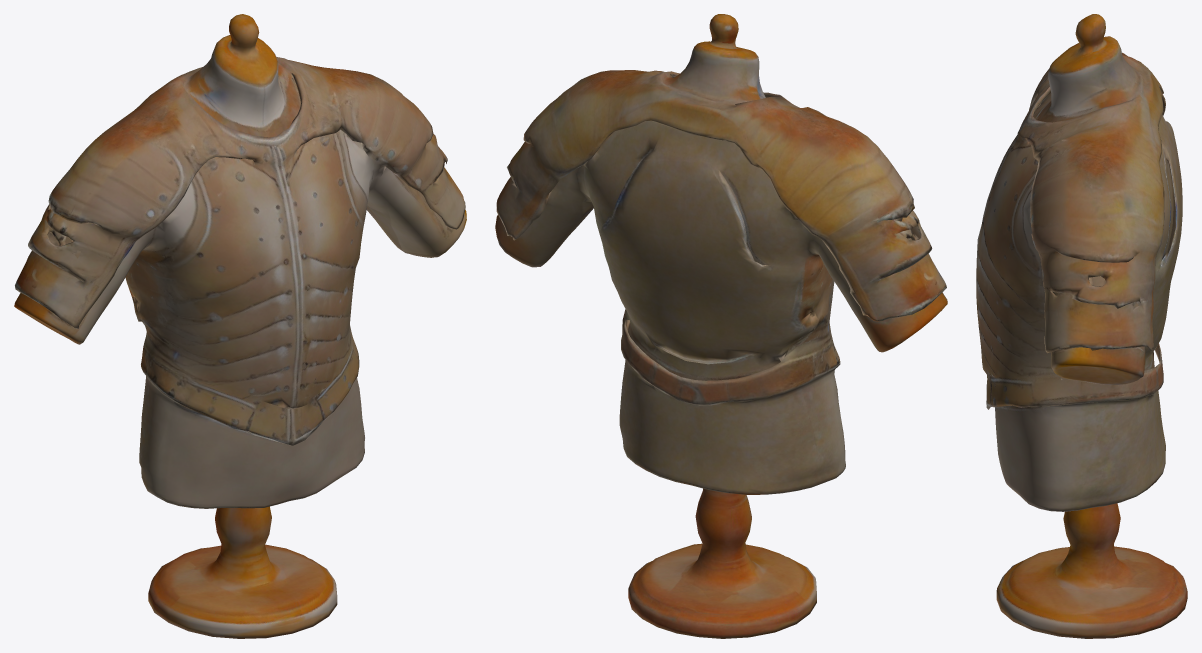
The model's file is Hard Leather Body.glb.
The picture shows the model from 3 angles, left to right: view 1: azimuth 30°, elevation 25°; view 2: azimuth 150°, elevation 25°; view 3: azimuth 270°, elevation 25°; orthographic projection.
Visible parts, largest first — view 1: file1; view 2: file1; view 3: file1.
Part boxes in pixels (x1,y1,x2,y2): file1: [14, 14, 466, 638]; file1: [495, 14, 947, 638]; file1: [976, 14, 1187, 638].
Bounding box in the file's own units: 1.55 × 1.99 × 0.6543.
1 material, 1 textured.
